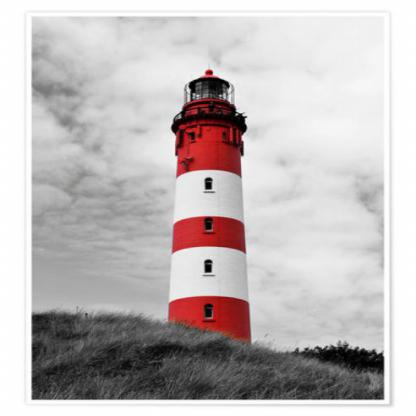lighthouse: (168, 65, 251, 313)
